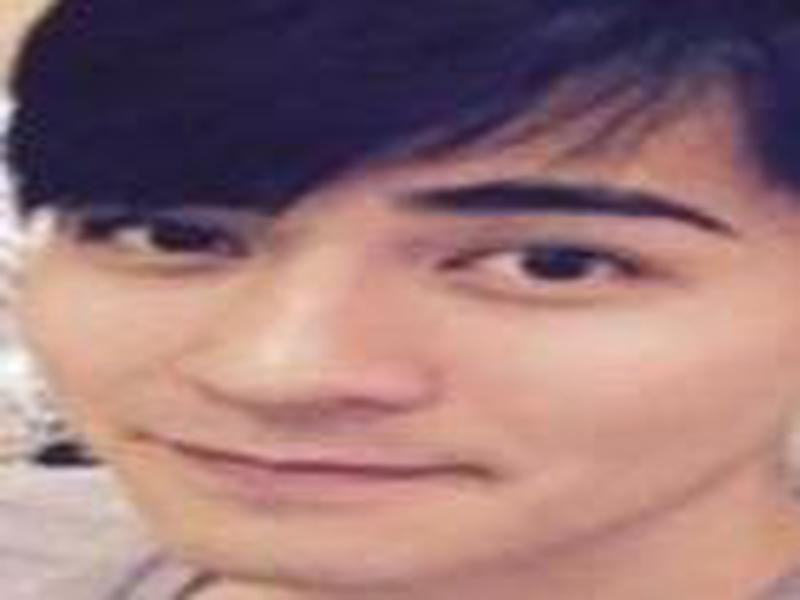without_mask: (12, 116, 793, 582)
